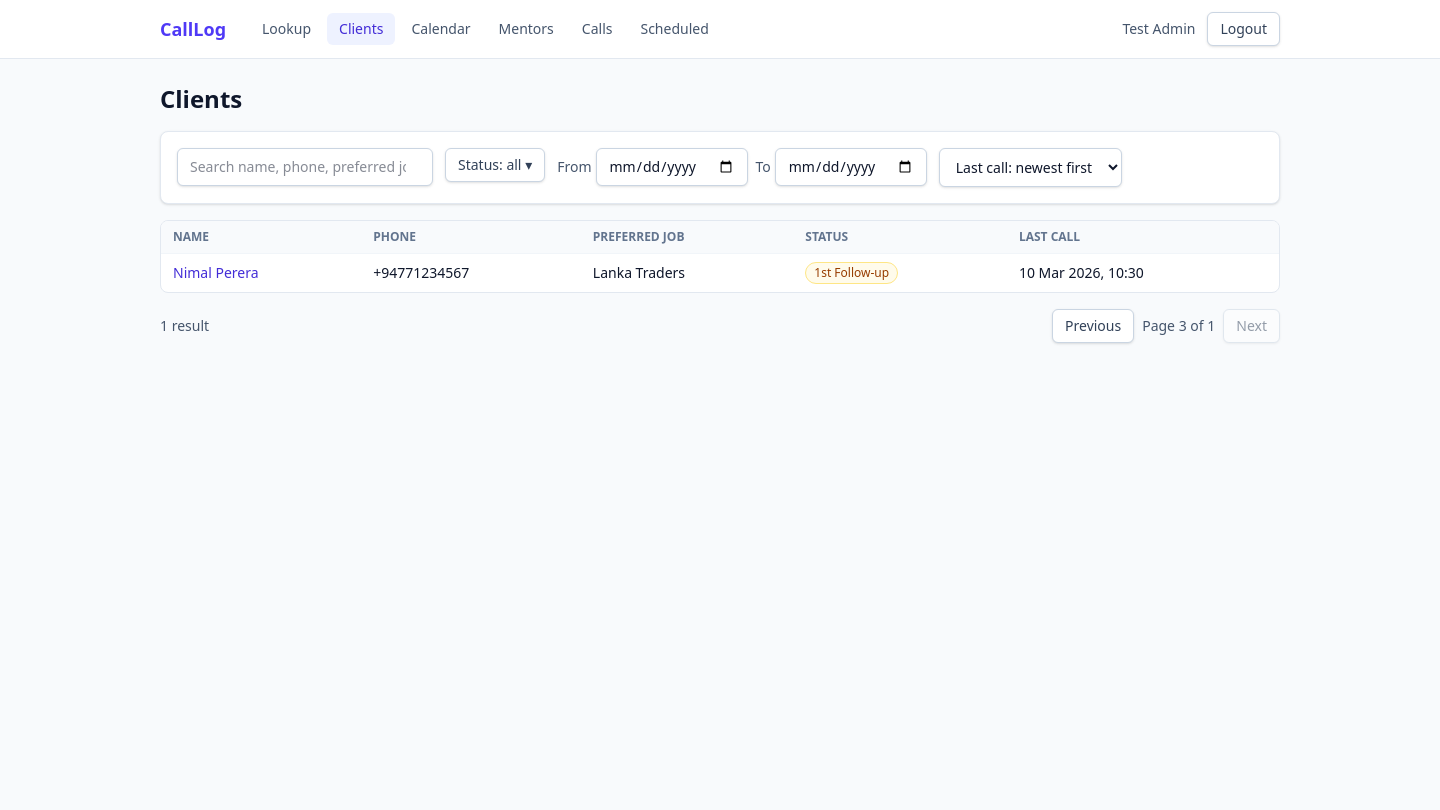
status filter on the Clients page › choosing a status refetches with that status and resets to page 1
The width and height of the screenshot is (1440, 810).
Check: the link "Nimal Perera" is shown, box [173,263,259,282]
Step 1. Click the button "Status: all ▾" → click(495, 165), box [445,148,545,182]
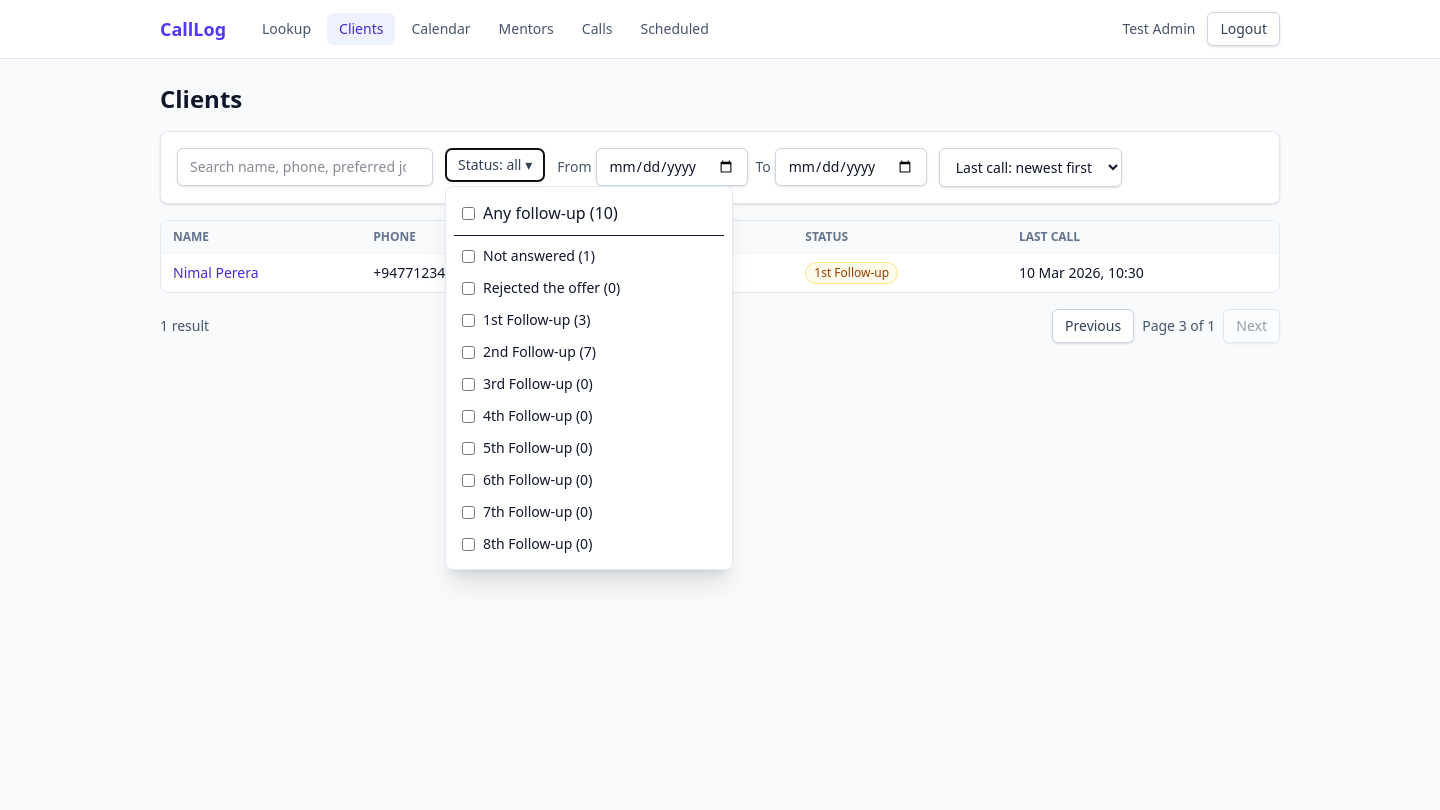
Step 2. Click the checkbox labelled "2nd Follow-up (7)" → click(468, 352), box [462,346,475,358]
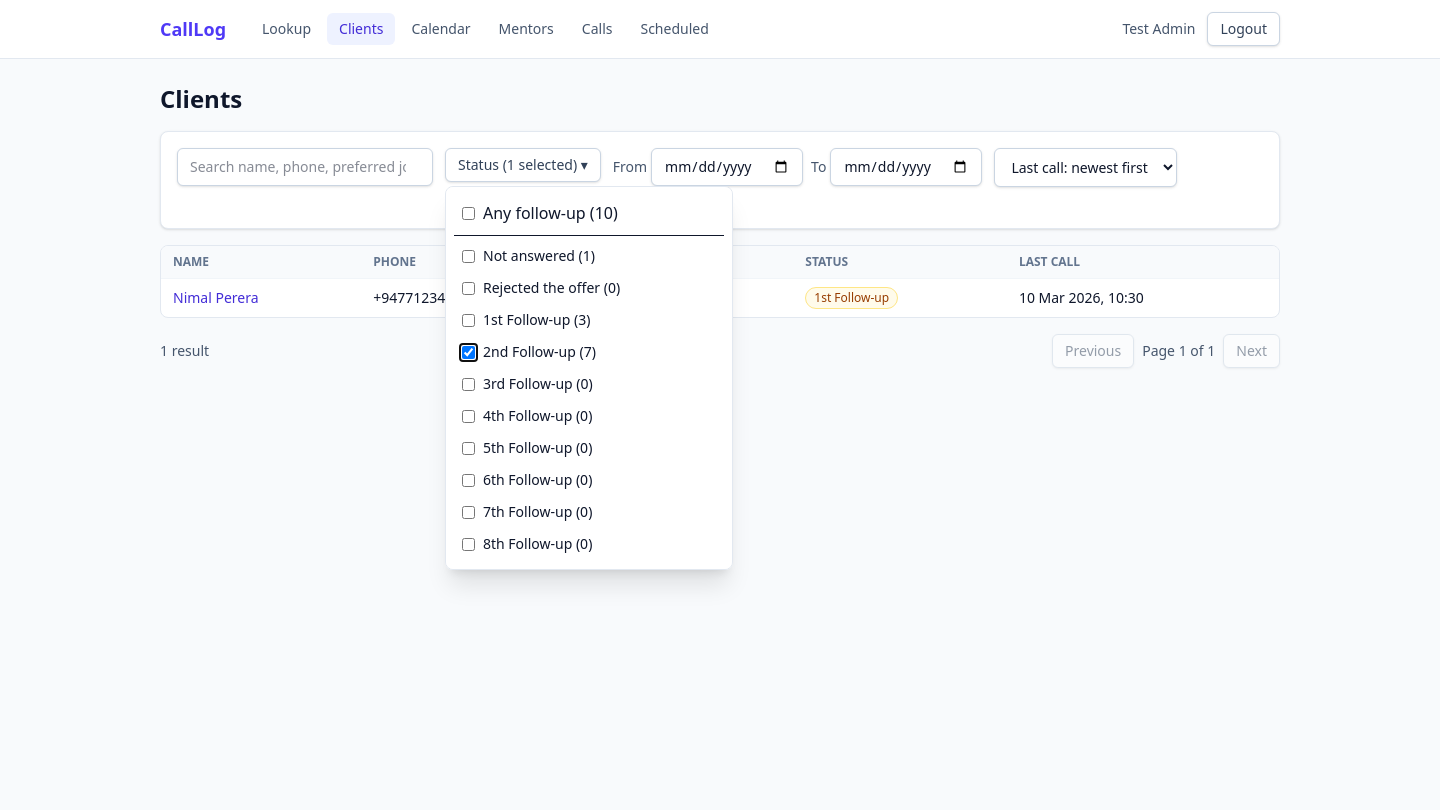
Check: the button "Status (1 selected) ▾" is shown, box [445,148,601,182]
